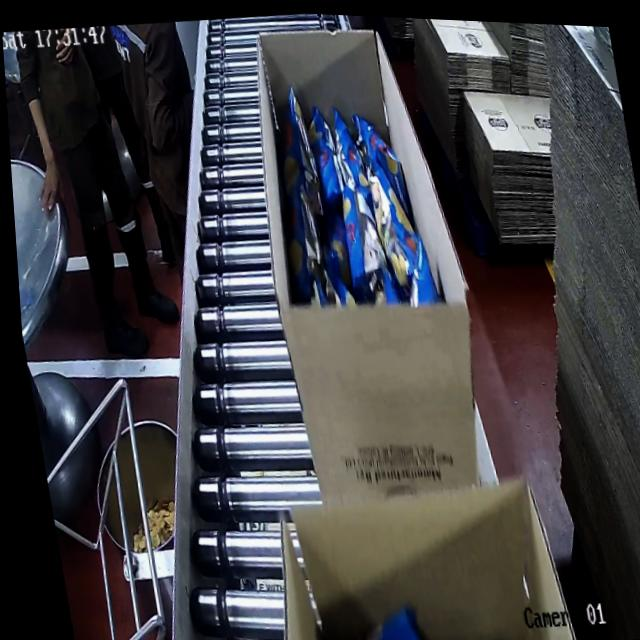PAPRIKA: (250, 69, 453, 339)
